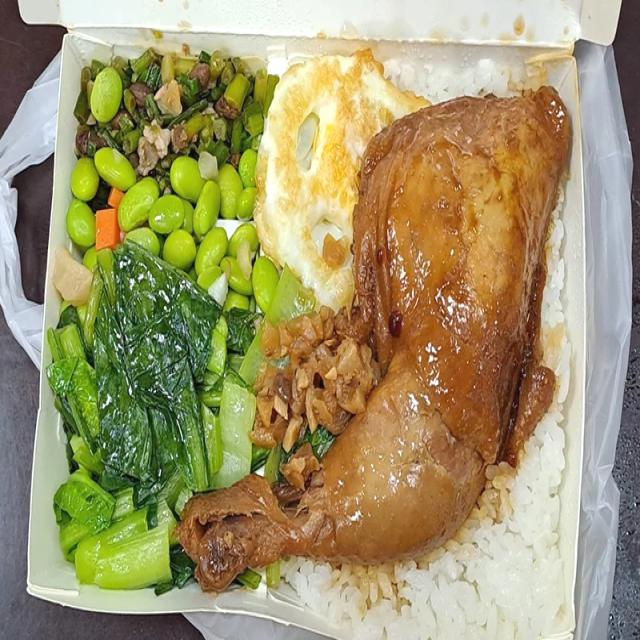Chicken Leg Steak: (340, 87, 552, 519)
Fushan-lettuce: (56, 300, 248, 550)
rice: (469, 552, 552, 620)
